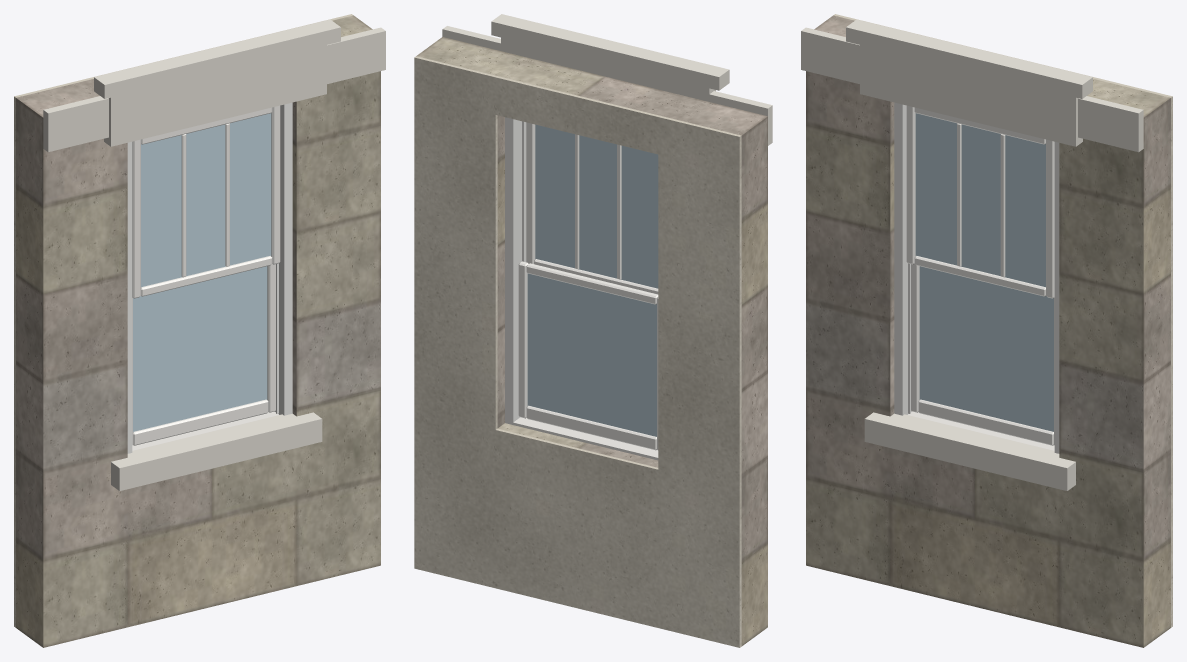
Rendered from wall_b1_window.glb.
The picture shows the model from 3 angles, left to right: view 1: azimuth 30°, elevation 25°; view 2: azimuth 150°, elevation 25°; view 3: azimuth 330°, elevation 25°; orthographic projection. The views are drawn at different scales.
Visible parts, largest first — view 1: wall_b1_window_grey, wall_b1_window_glass, wall_b1_window_lime, wall_b1_window_sash, wall_b1_window_frame, wall_b1_window_plaster, wall_b1_window_trim; view 2: wall_b1_window_plaster, wall_b1_window_glass, wall_b1_window_grey, wall_b1_window_lime, wall_b1_window_sash, wall_b1_window_frame, wall_b1_window_trim; view 3: wall_b1_window_grey, wall_b1_window_glass, wall_b1_window_lime, wall_b1_window_sash, wall_b1_window_frame, wall_b1_window_plaster, wall_b1_window_trim.
Part boxes in pixels (box(x1,y1,x2,y2)): wall_b1_window_grey: box(16, 15, 380, 647); wall_b1_window_glass: box(133, 113, 271, 431); wall_b1_window_lime: box(43, 19, 385, 490); wall_b1_window_sash: box(132, 105, 280, 445); wall_b1_window_frame: box(127, 102, 292, 453); wall_b1_window_plaster: box(14, 14, 353, 627); wall_b1_window_trim: box(132, 411, 278, 450); wall_b1_window_plaster: box(414, 56, 741, 647); wall_b1_window_glass: box(527, 124, 658, 436); wall_b1_window_grey: box(416, 37, 767, 646); wall_b1_window_lime: box(442, 14, 772, 145); wall_b1_window_sash: box(518, 122, 658, 450); wall_b1_window_frame: box(505, 117, 526, 424); wall_b1_window_trim: box(513, 417, 658, 460); wall_b1_window_grey: box(806, 15, 1170, 647); wall_b1_window_glass: box(915, 113, 1053, 431); wall_b1_window_lime: box(801, 19, 1143, 490); wall_b1_window_sash: box(906, 105, 1054, 445); wall_b1_window_frame: box(894, 102, 1059, 453); wall_b1_window_plaster: box(833, 14, 1172, 627); wall_b1_window_trim: box(908, 411, 1054, 450).
Size of the model in its own units: 2 by 3.16 by 0.41.
7 materials, 2 textured.
